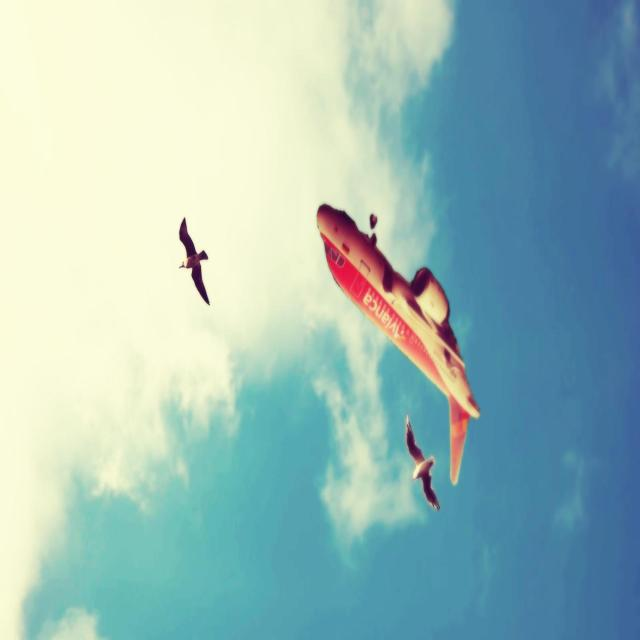airplane: (316, 202, 480, 486)
